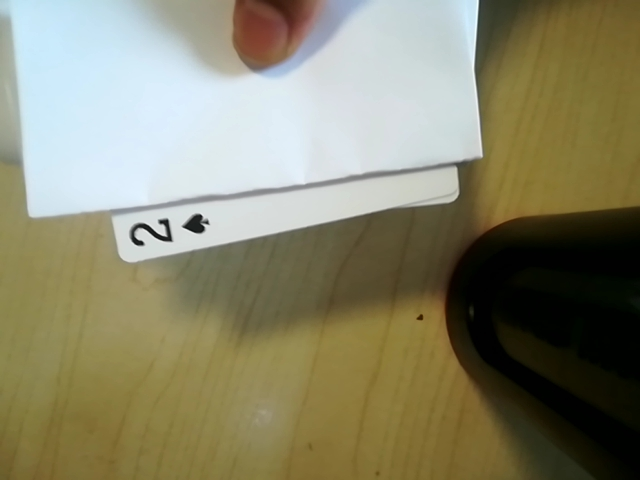ht 2: (119, 197, 229, 261)
